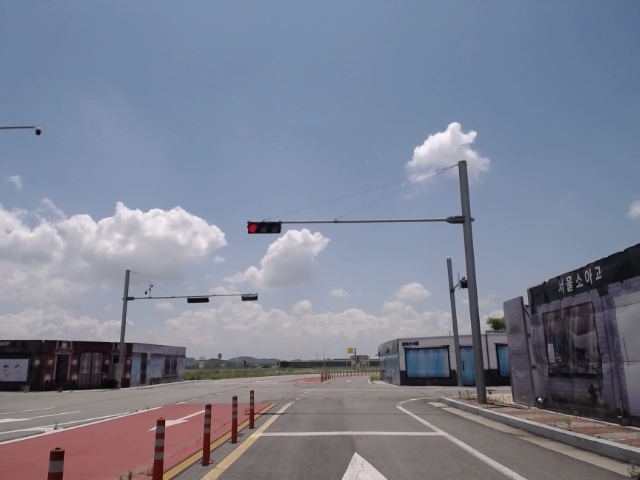red_3: (247, 219, 282, 235)
